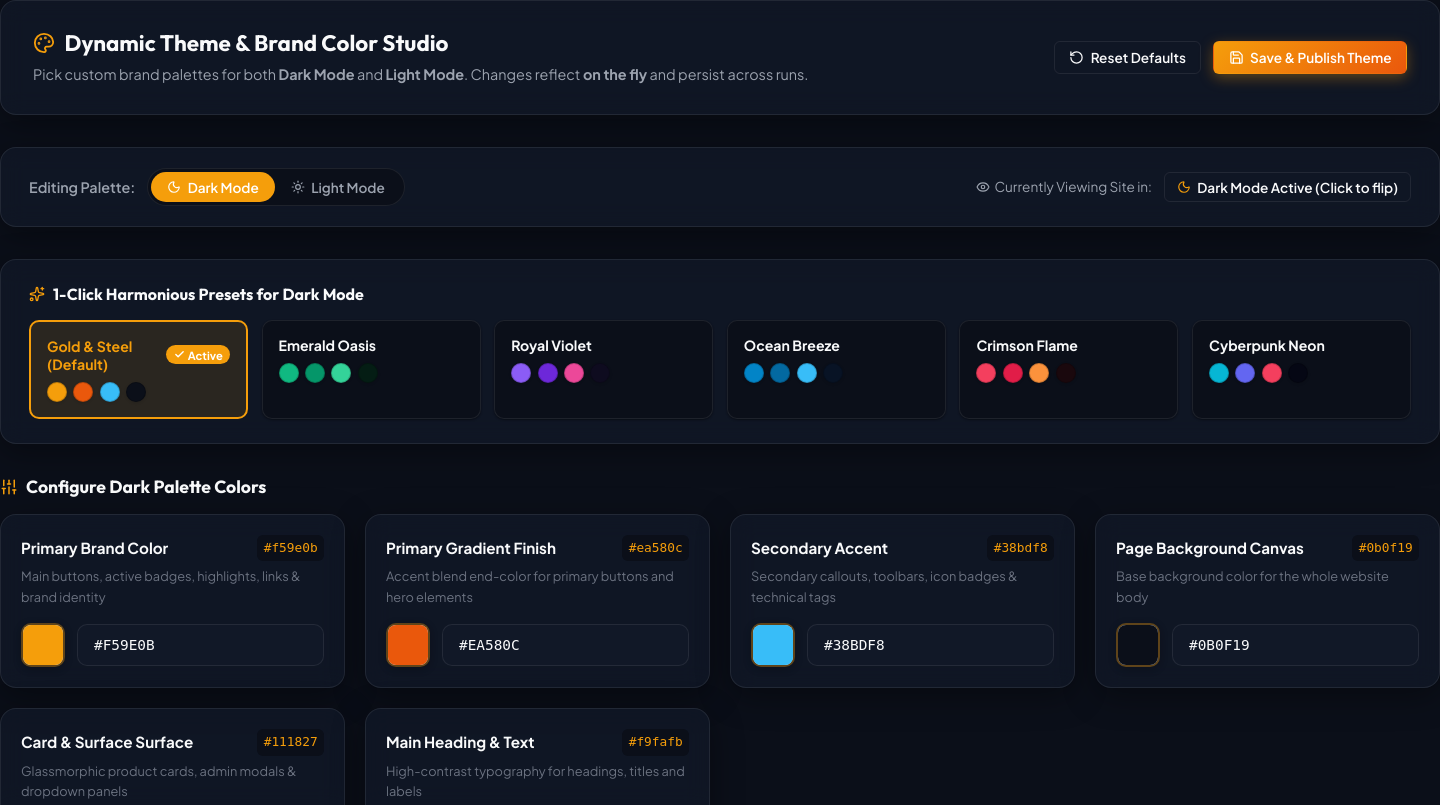
Scenario: ThemeCustomizerTab Component › applies a preset on click in Light Mode
// Switch to Light Mode tab
Step 1. Click the button "Light Mode" → [338, 187], box top-left (275, 172), bottom-right (401, 202)
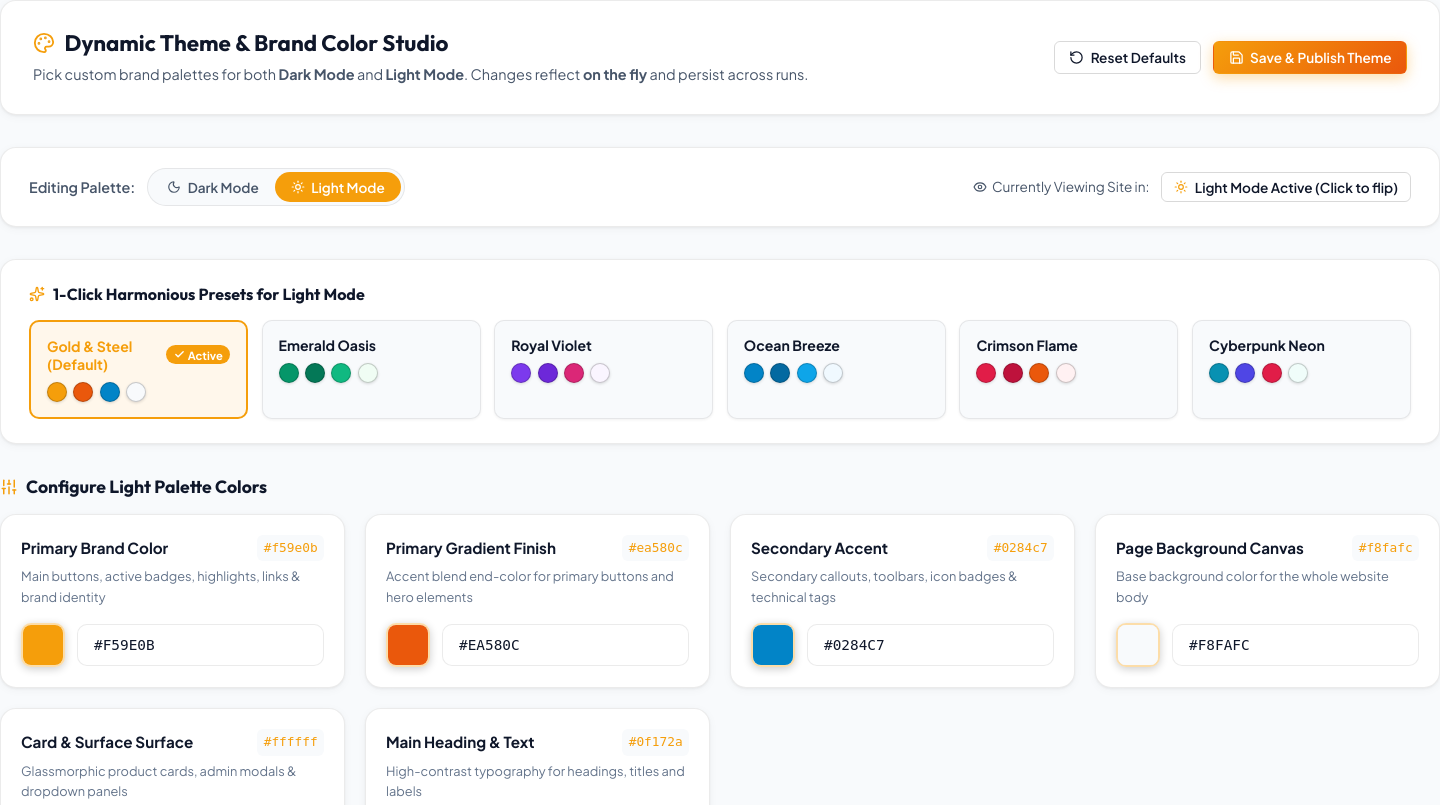
// Click Emerald Oasis under Light Mode presets
Step 2. Click the button "Emerald Oasis" → [371, 369], box top-left (262, 320), bottom-right (481, 419)
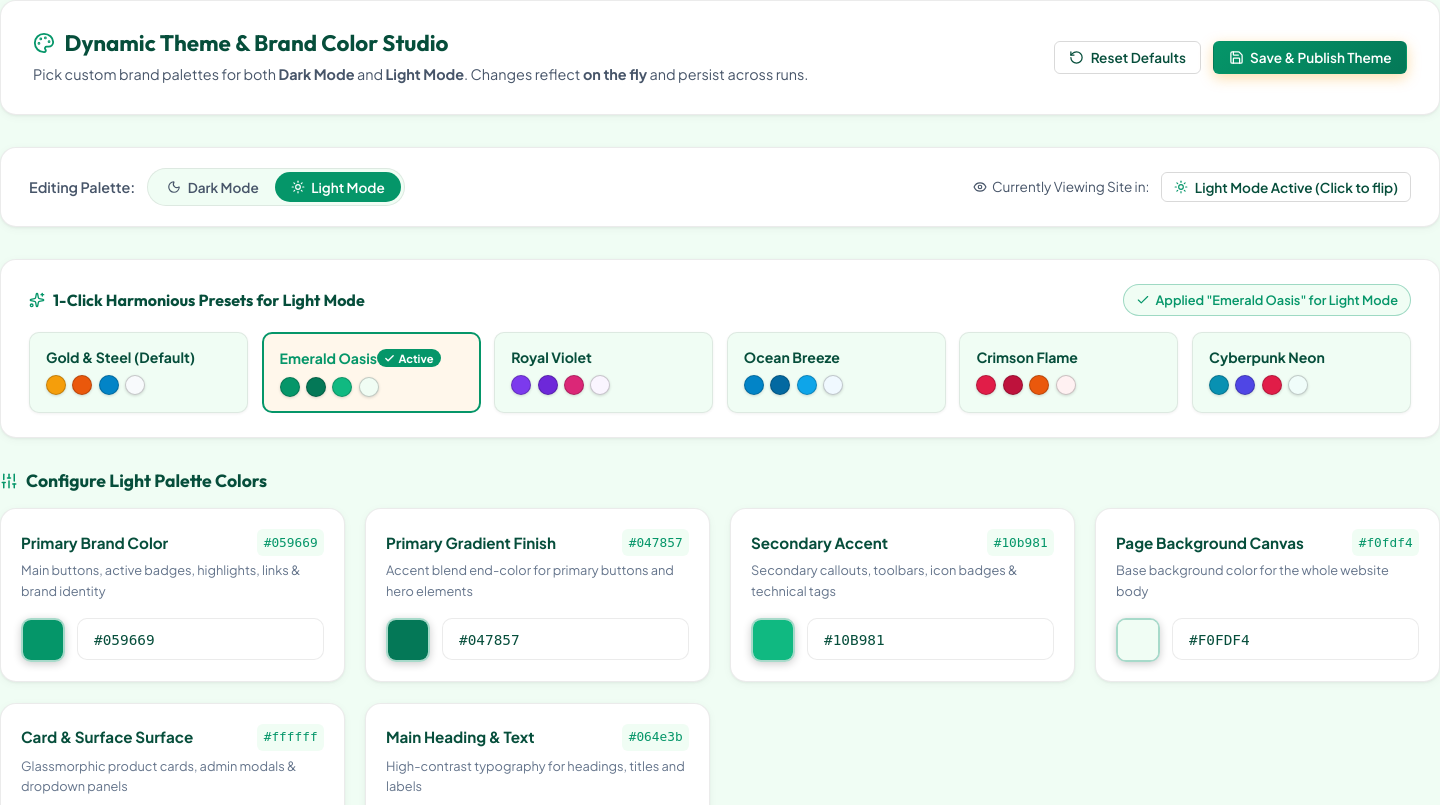
Now the text "#059669" is shown, box top-left (257, 529), bottom-right (324, 556)
Now the text "Applied \"Emerald Oasis\" for Light Mode" is shown, box top-left (1123, 284), bottom-right (1411, 316)
